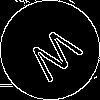W: (25, 25, 91, 91)
